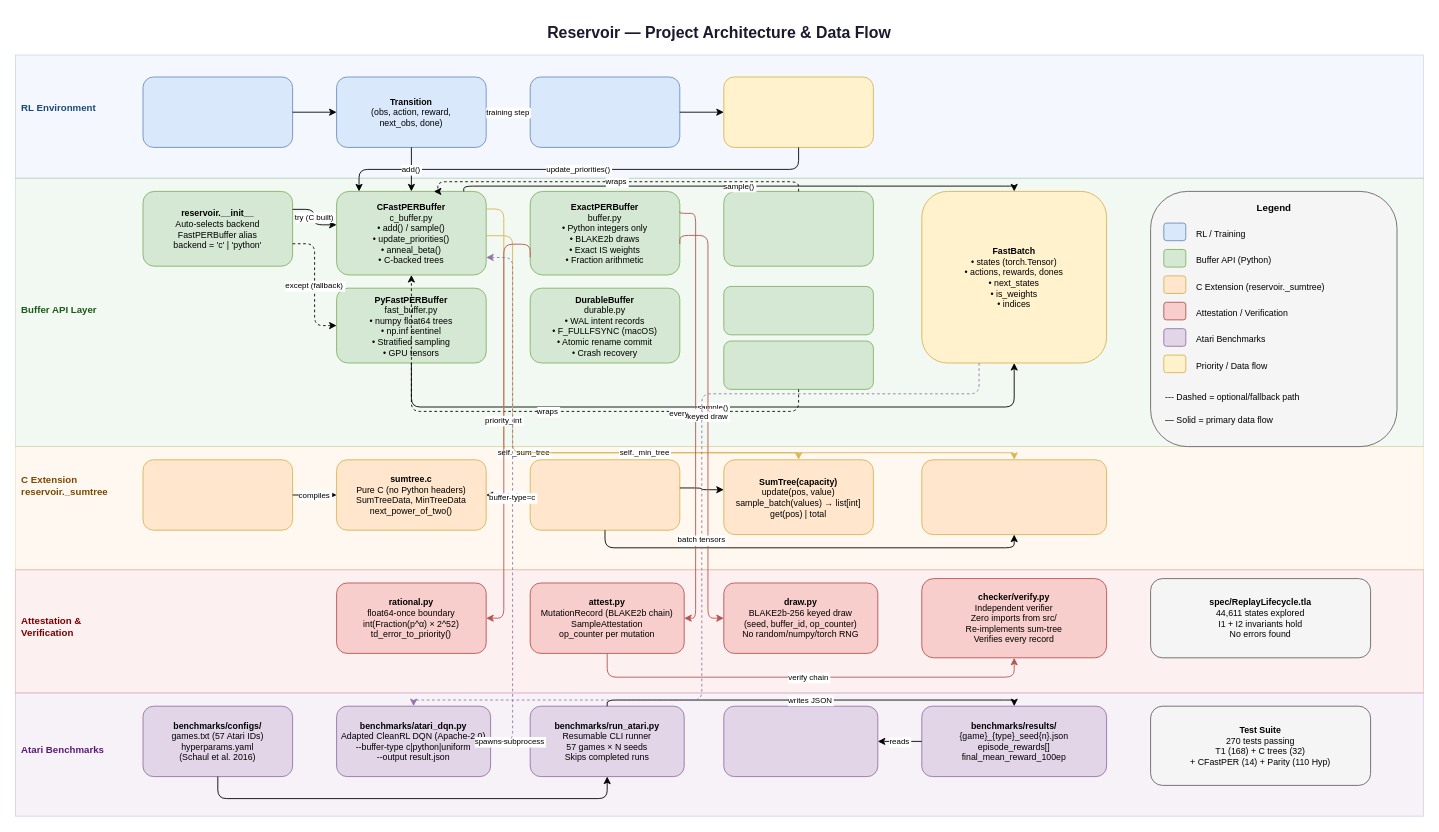
Image size: 1439x832. Some labels were removed from this diagram. Here are the shapes that lost their labels. From the top down, the centre of each, then its label:
the point at 217,111: Gymnasium Env gym.make(env_id)
the point at 604,111: TD Error δ = r + γ·Q_target - Q (after training step)
the point at 798,111: Priority Calc p = |δ| + ε p_α = p^α (float64-once)
the point at 798,228: NStepBuffer nstep.py n-step returns (Rainbow DQN)
the point at 798,310: HERBuffer her.py Hindsight Experience Replay (robotics)
the point at 798,364: AuditedPERBuffer audit.py — shadow exact buffer, correctness checks
the point at 217,494: setup.py setuptools Extension -O3 compile flag MANIFEST.in → sdist
the point at 604,494: sumtreemodule.c Python C API bindings PyInit__sumtree
the point at 1014,497: MinTree(capacity) update(pos, value) get(pos) | minimum (INFINITY sentinel)
the point at 800,741: benchmarks/compare.py Load results/*.json Markdown table matplotlib PNG chart
